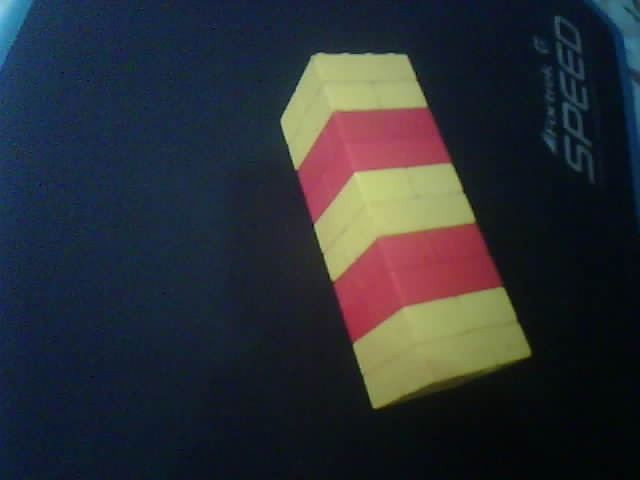lego: (279, 49, 534, 413)
